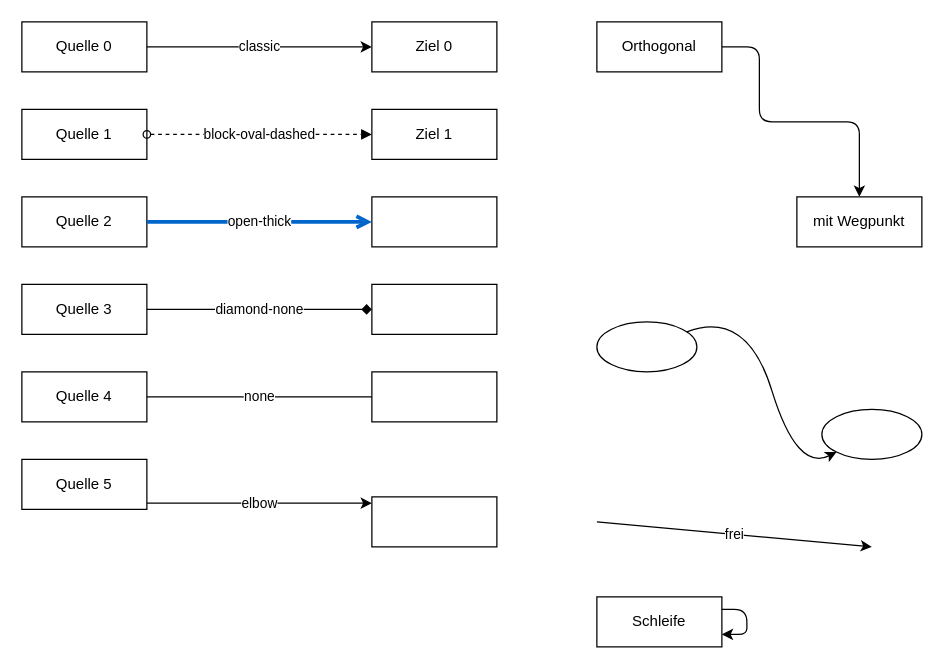
The diagram is 944 pixels wide and 669 high, and some of its shapes have lost their labels. The shapes that lost their labels are listed below. From the top down, each one's centre as x and y in pixels, then its label:
At point 434,221: "Ziel 2".
At point 434,308: "Ziel 3".
At point 646,346: "Kurve".
At point 434,396: "Ziel 4".
At point 434,521: "Ziel 5".
